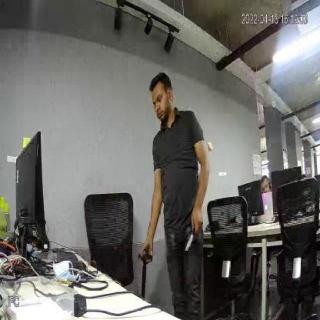knife: (186, 229, 198, 257)
